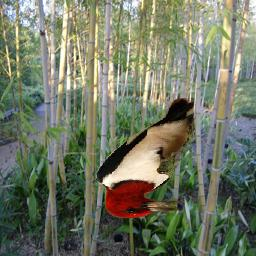Woodpecker: (96, 98, 195, 218)
